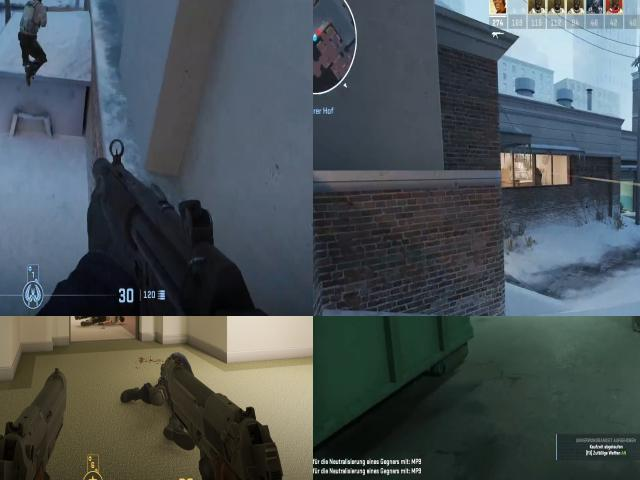CT: (535, 166, 544, 185)
Dead: (126, 347, 198, 415), (81, 316, 127, 332)
T: (18, 0, 49, 41)
T-Head: (30, 0, 45, 7)
